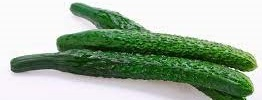cucumber: (72, 5, 255, 68), (9, 53, 251, 95)
